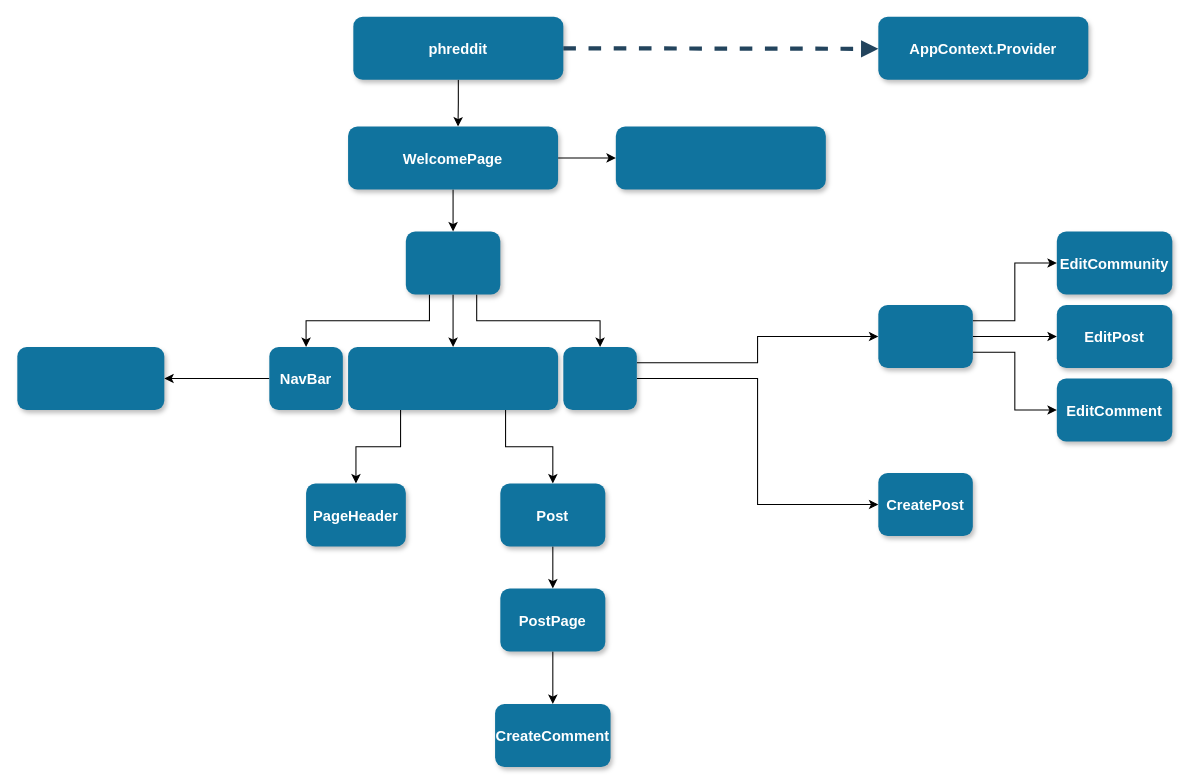
This 1190x784 diagram has some shape labels left out. Here are the shapes that lost their labels. From the top down, the centre of each, then its label:
the point at 721,159: CreateAccount
the point at 453,264: SignInPage
the point at 926,337: UserProfile
the point at 91,379: CreateCommunity
the point at 453,379: MainPage
the point at 601,379: Banner
